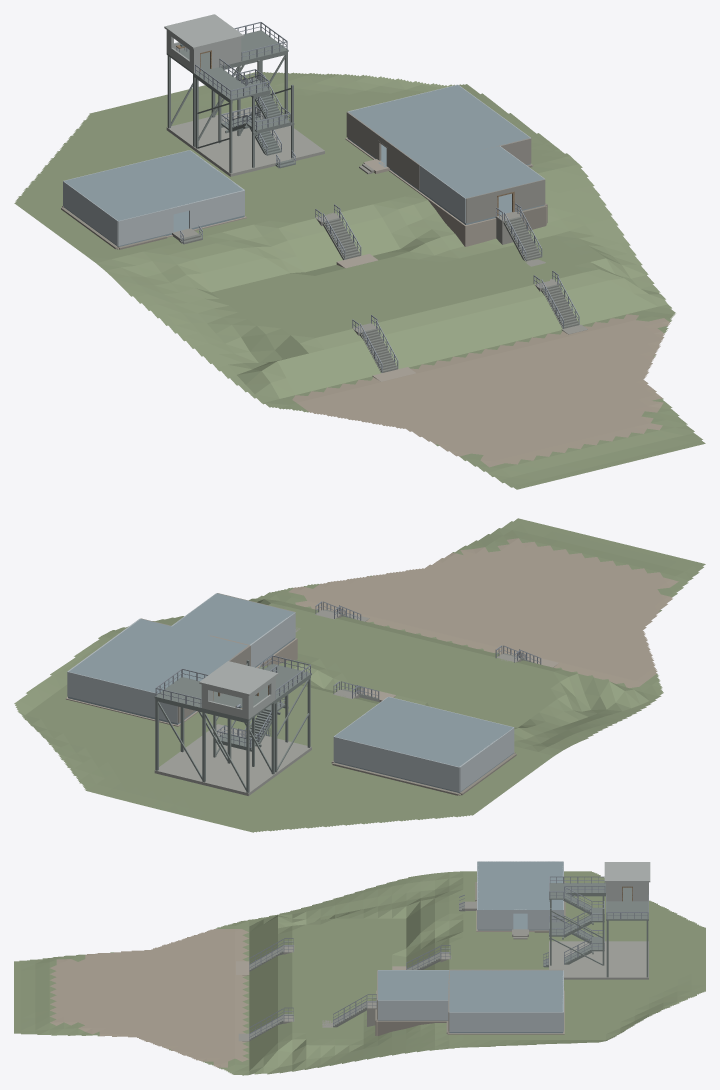
Rendered from lookout-landings.glb.
3 views of the same model, one above another, from view 1: azimuth 30°, elevation 25°; view 2: azimuth 150°, elevation 25°; view 3: azimuth 270°, elevation 25° (orthographic). The views are drawn at different scales.
Parts seen in each view (by area): view 1: WLD-04 saved ground, Ceiling cap ruin, Ceiling cap hut, WLD-04 restart continuous grounded tower plinth region0, Ceiling cap store, Bayed shell Wall hut S, WLD-04 restart cab closed roof region0, Wall hut W, WLD-04 restart cab and observation deck region0, Wall store W, WLD-04 restart west level access gallery region0, Widow's Peak ruin west entrance ruin west entrance preceding (+4 smaller); view 2: WLD-04 saved ground, Ceiling cap ruin, Ceiling cap hut, WLD-04 restart continuous grounded tower plinth region0, Ceiling cap store, Wall hut N, Wall ruin N, WLD-04 restart cab closed roof region0, WLD-04 restart cab and observation deck region0, Wall hut W, Wall store W, WLD-04 restart west level access gallery region0; view 3: WLD-04 saved ground, Ceiling cap ruin, Ceiling cap hut, WLD-04 restart continuous grounded tower plinth region0, Wall ruin E, Ceiling cap store, Wall store E, WLD-04 restart cab closed roof region0, WLD-04 restart cab and observation deck region0, Flat route shell Wall hut E.001, WLD-04 restart west level access gallery region0, Flat route shell Wall hut E (+1 smaller).
Part boxes in pixels (<box>): WLD-04 saved ground: <box>14,72,705,489</box>; Ceiling cap ruin: <box>348,85,529,164</box>; Ceiling cap hut: <box>64,150,242,220</box>; WLD-04 restart continuous grounded tower plinth region0: <box>166,106,324,176</box>; Ceiling cap store: <box>420,146,544,198</box>; Bayed shell Wall hut S: <box>118,190,244,245</box>; WLD-04 restart cab closed roof region0: <box>164,14,243,49</box>; Wall hut W: <box>63,181,118,245</box>; WLD-04 restart cab and observation deck region0: <box>166,30,288,74</box>; Wall store W: <box>419,165,465,223</box>; WLD-04 restart west level access gallery region0: <box>194,67,256,101</box>; Widow's Peak ruin west entrance ruin west entrance preceding: <box>346,112,378,159</box>; WLD-04 saved ground: <box>14,518,705,832</box>; Ceiling cap ruin: <box>69,619,247,693</box>; Ceiling cap hut: <box>334,697,513,766</box>; WLD-04 restart continuous grounded tower plinth region0: <box>154,724,311,795</box>; Ceiling cap store: <box>172,593,294,644</box>; Wall hut N: <box>334,736,459,791</box>; Wall ruin N: <box>67,671,177,722</box>; WLD-04 restart cab closed roof region0: <box>199,661,278,695</box>; WLD-04 restart cab and observation deck region0: <box>154,677,275,720</box>; Wall hut W: <box>459,727,514,791</box>; Wall store W: <box>250,612,295,667</box>; WLD-04 restart west level access gallery region0: <box>259,667,311,700</box>; WLD-04 saved ground: <box>14,871,705,1075</box>; Ceiling cap ruin: <box>449,970,563,1012</box>; Ceiling cap hut: <box>477,861,563,909</box>; WLD-04 restart continuous grounded tower plinth region0: <box>549,941,648,979</box>; Wall ruin E: <box>449,1012,563,1031</box>; Ceiling cap store: <box>378,970,449,1000</box>; Wall store E: <box>378,1000,448,1019</box>; WLD-04 restart cab closed roof region0: <box>604,862,650,882</box>; WLD-04 restart cab and observation deck region0: <box>606,887,648,920</box>; Flat route shell Wall hut E.001: <box>477,910,513,929</box>; WLD-04 restart west level access gallery region0: <box>549,883,605,894</box>; Flat route shell Wall hut E: <box>527,910,563,929</box>.
Bounding box in the file's own units: 59 × 18.75 × 97.
29 materials, 13 textured.
